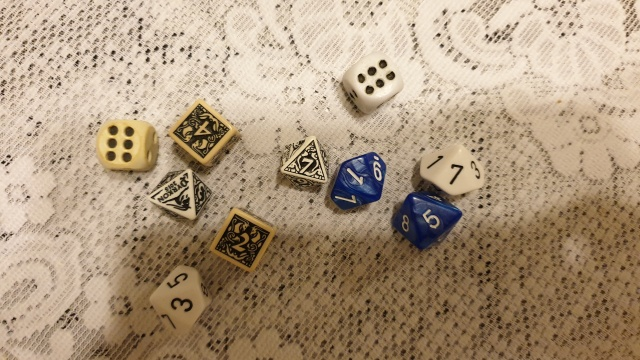d10-1: (325, 148, 388, 217)
d10-3: (144, 262, 217, 340)
d10-5: (393, 185, 462, 259)
d10-7: (413, 135, 491, 202)
d6-6: (333, 48, 407, 116), (93, 116, 160, 174)
d6p-2: (206, 203, 280, 277)
d6p-4: (163, 100, 248, 169)
d8p-1: (146, 168, 218, 224)
d8p-7: (277, 130, 330, 196)
